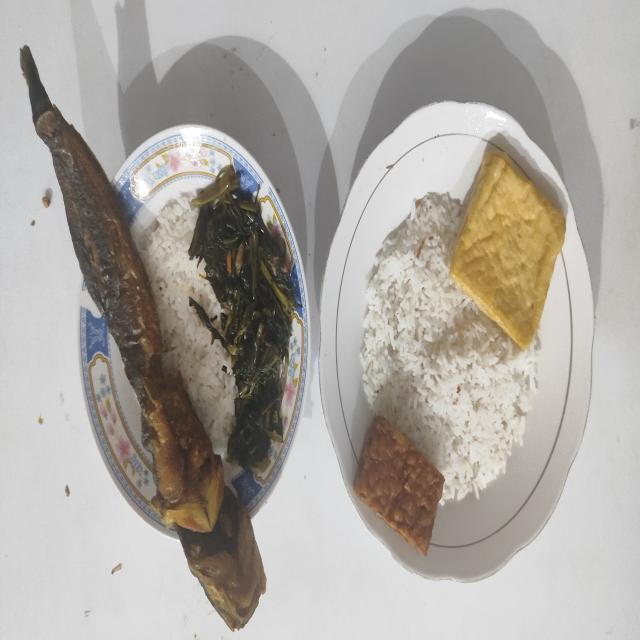nasi_putih: (360, 192, 540, 500), (140, 194, 238, 461)
tahu_goreng: (450, 151, 566, 350)
tempe_goreng: (353, 416, 445, 555)
tumis_kangkung: (188, 165, 302, 472)
